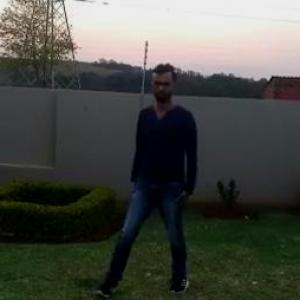follow: (136, 63, 214, 298)
